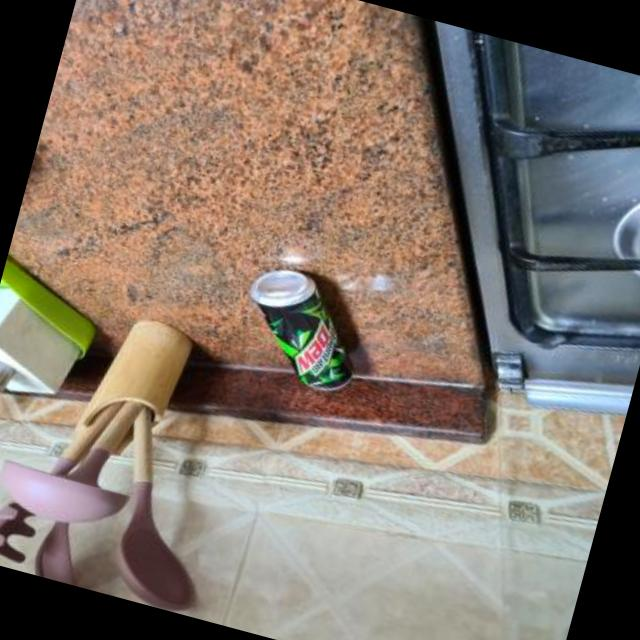metal: (249, 268, 352, 390)
